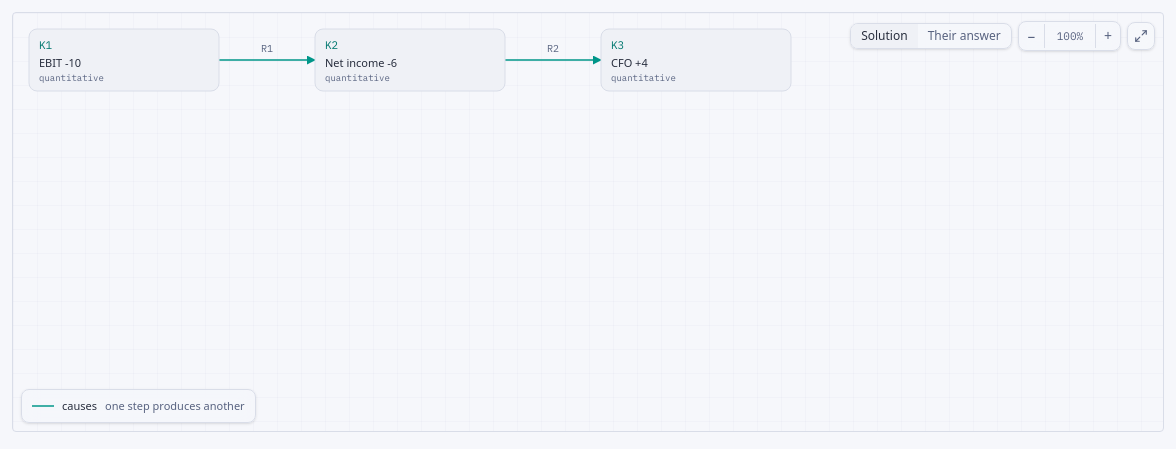
the answer overlay › says a red line is inferred from endpoints, not measured
Click the button "Their answer" at point(964, 36), box [918,24,1011,48]
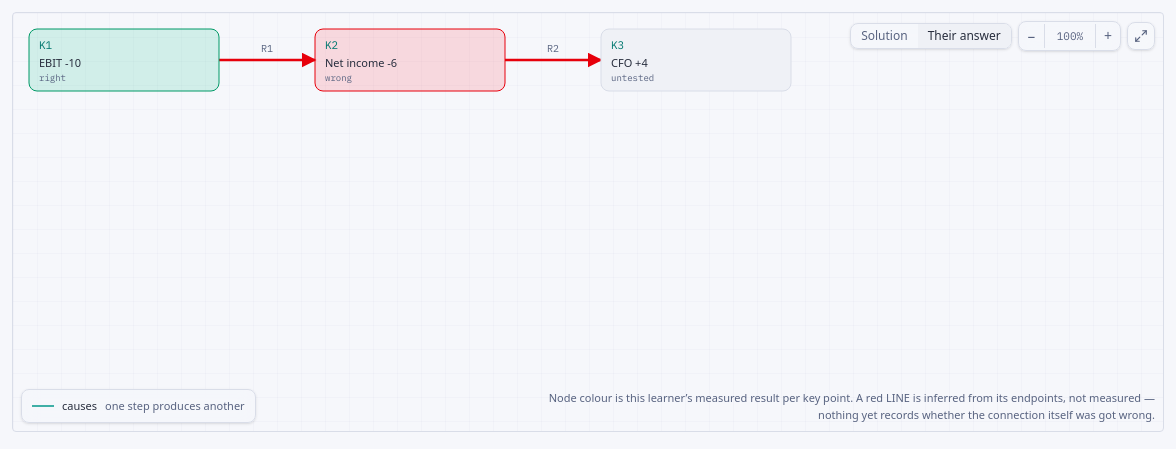
Check: the text "inferred from its endpoints, not measured" is shown, box [549,390,1155,422]
